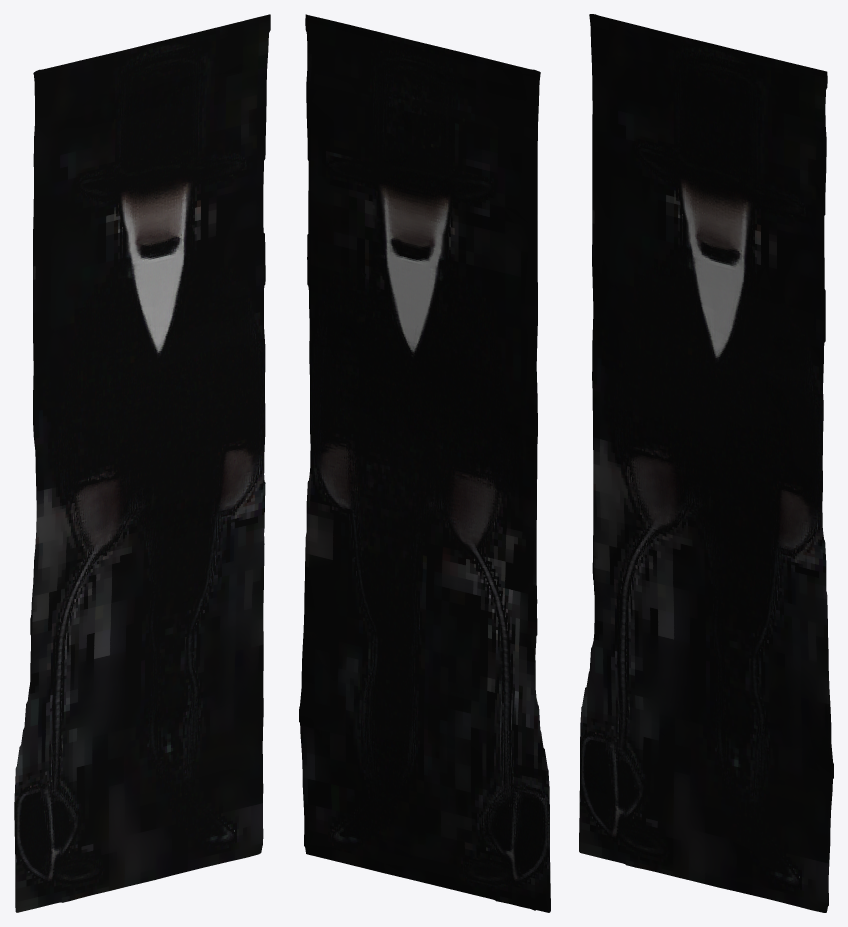
The model's file is trellis_result.glb.
3 renders of one model, left to right at view 1: azimuth 30°, elevation 25°; view 2: azimuth 150°, elevation 25°; view 3: azimuth 330°, elevation 25°, orthographic.
Visible parts, largest first — view 1: world; view 2: world; view 3: world.
Boxes of the visible parts, x1=… form: world: x1=14, y1=14, x2=270, y2=912; world: x1=299, y1=14, x2=550, y2=912; world: x1=579, y1=14, x2=833, y2=912.
Bounding box in the file's own units: 0.3125 × 1 × 0.0169.
Materials: 1 (1 with a texture image).
